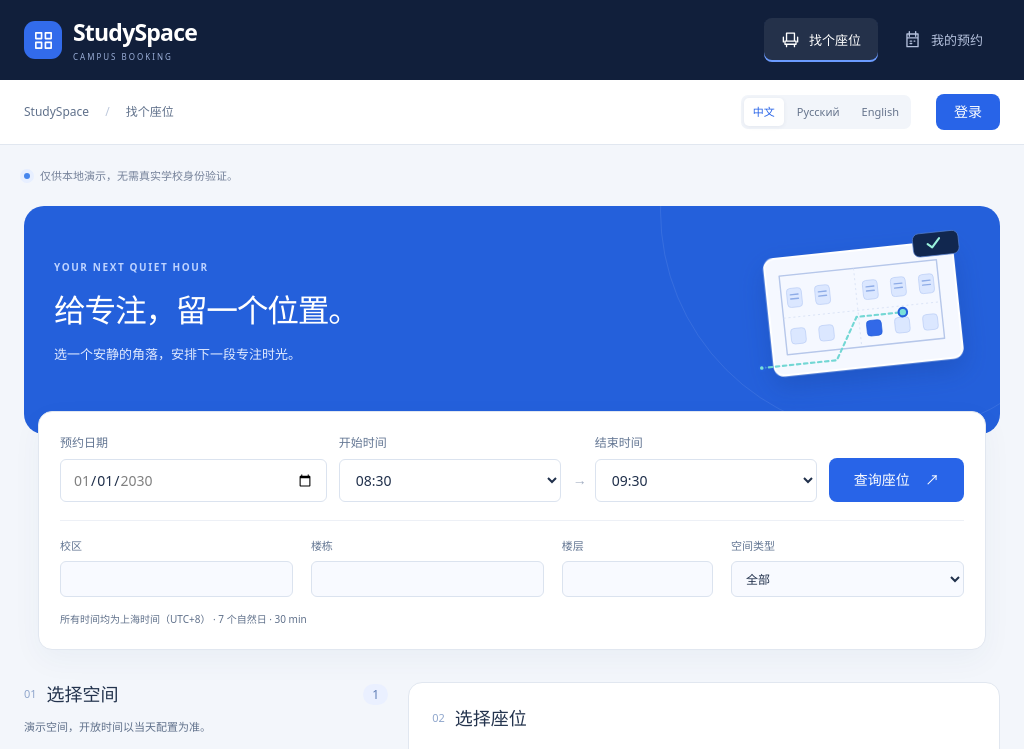
Test: local reservation application › switches booking labels between all three languages
Click the button "Русский": (818, 112) x1=788 y1=98 x2=849 y2=126
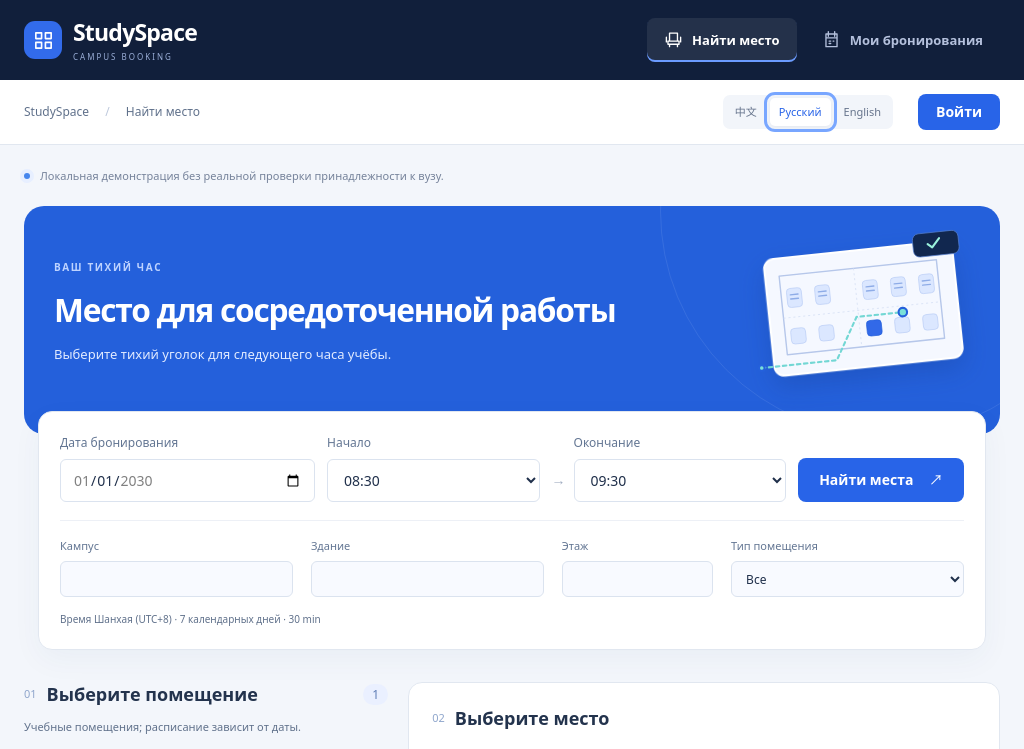
Now the heading "Место для сосредоточенной работы" is shown, box x1=54 y1=289 x2=615 y2=332
Click the button "English": (862, 112) x1=835 y1=98 x2=890 y2=126
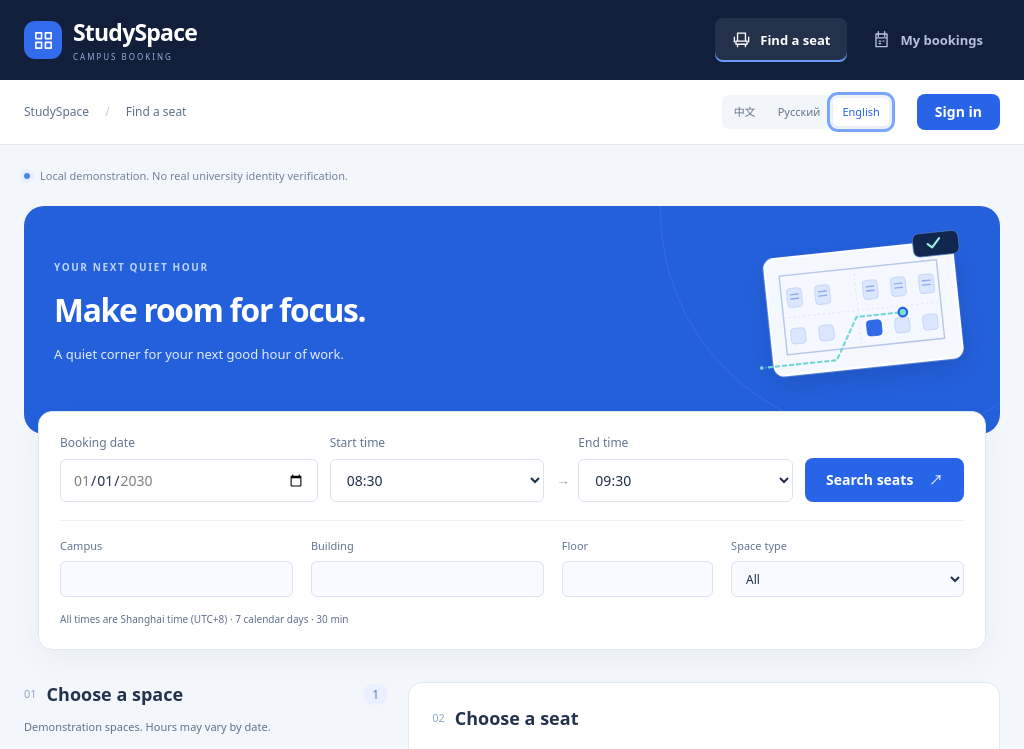
Expected: the date field labelled "Booking date" is shown, x1=60 y1=459 x2=318 y2=502
Now the heading "Make room for focus." is shown, box x1=54 y1=289 x2=365 y2=332
